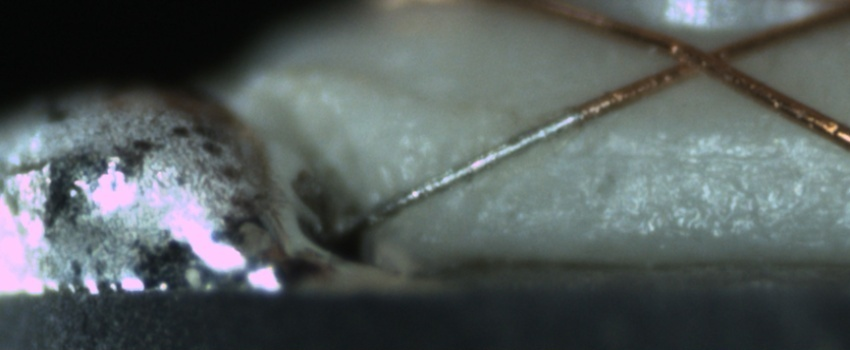CL: (659, 31, 750, 86)
DL: (574, 125, 773, 186)
TS: (356, 108, 588, 229)
